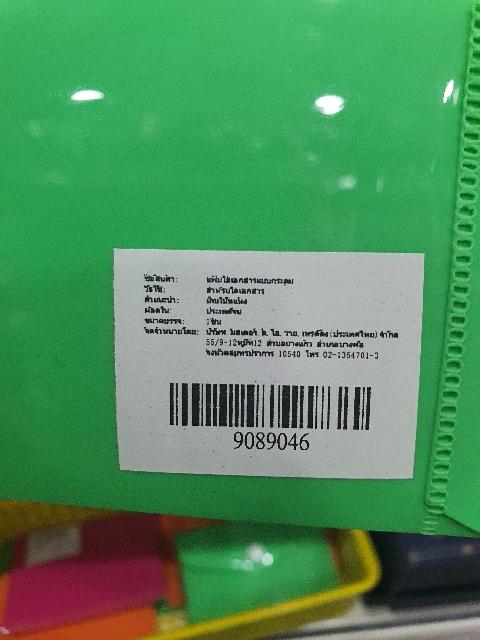Barcode: (160, 375, 381, 458)
